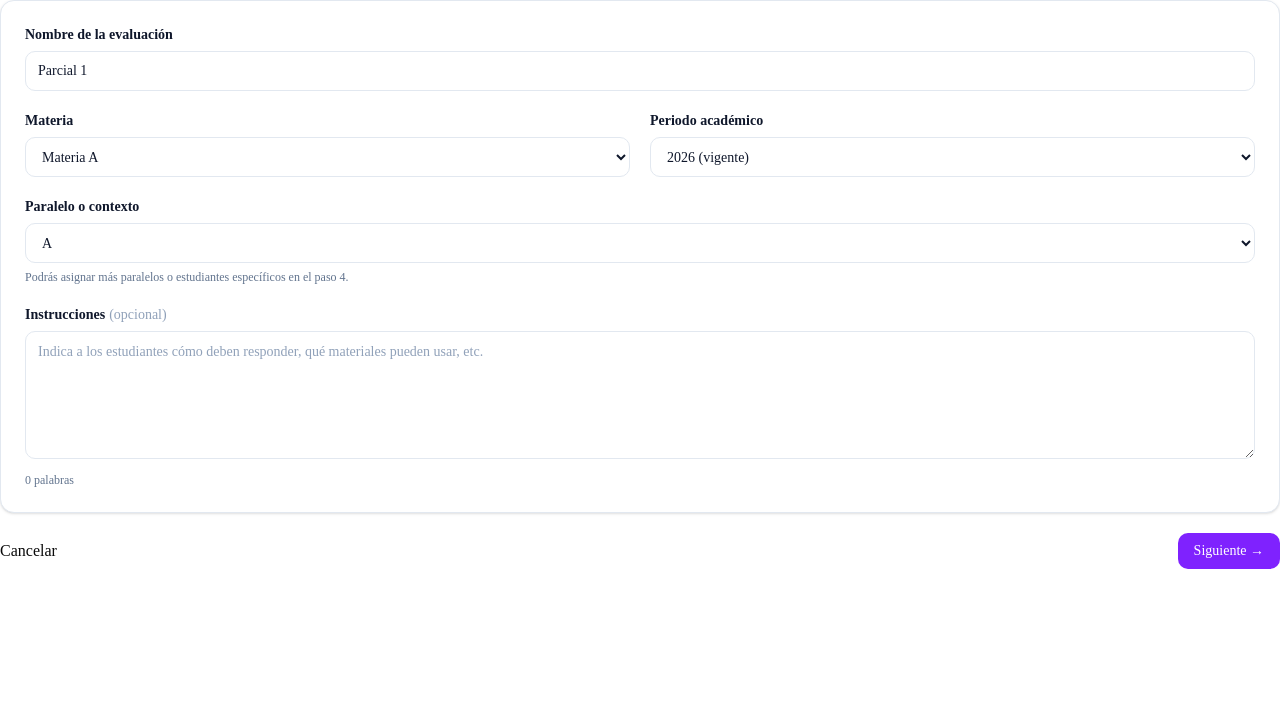
it: EvaluacionInfoForm — advertencia de reinicio de asignaciones › advierte al elegir un paralelo no asociado
Select "B" in the dropdown labelled "Paralelo o contexto": (640, 243) [25,223,1255,263]
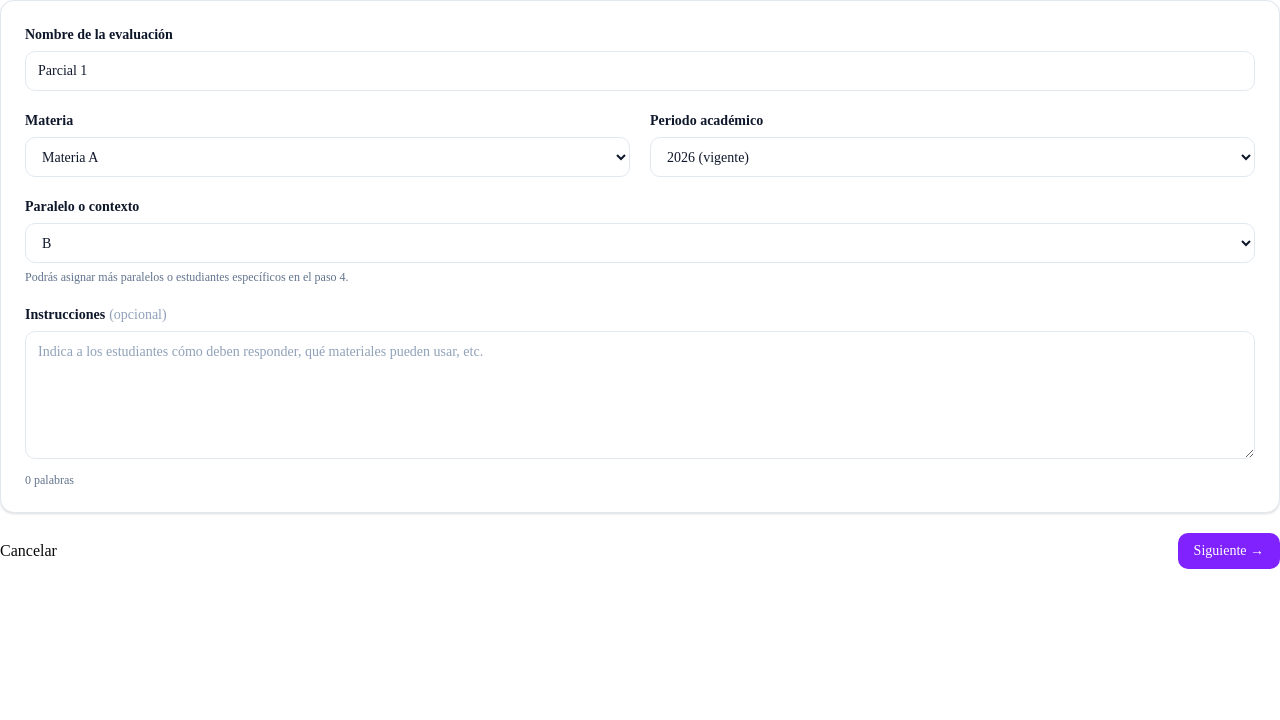
Click the button "Siguiente →": (1229, 551) [1178,533,1279,569]
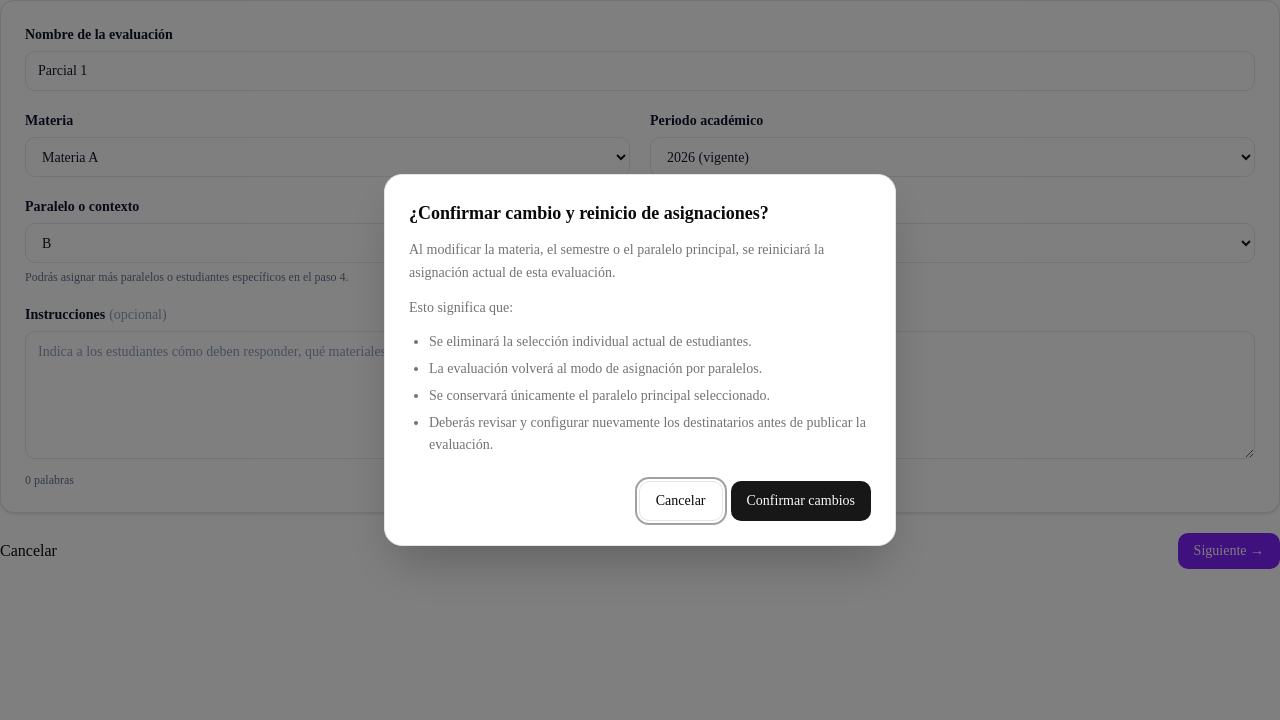
Check: the dialog is shown, box [384,174,896,546]
